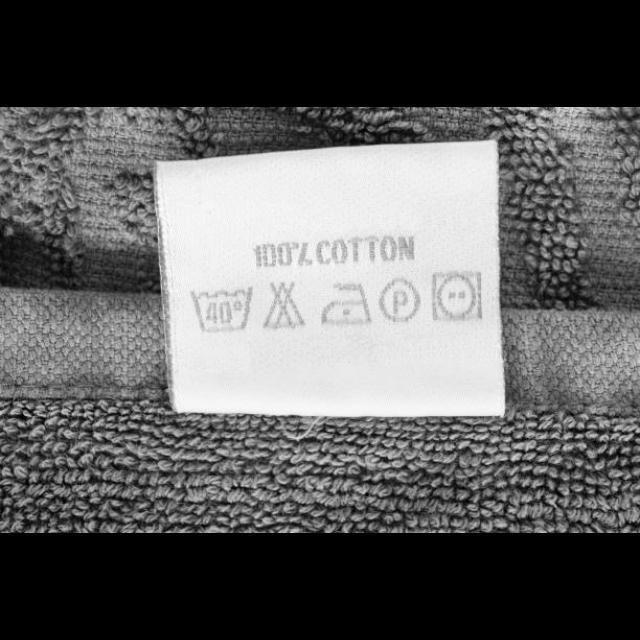40C: (186, 282, 258, 334)
DN_bleach: (259, 278, 309, 334)
iron_low: (316, 282, 372, 326)
normal_dry_clean_solvents: (375, 275, 425, 327)
tumble_dry_medium: (429, 268, 487, 324)
